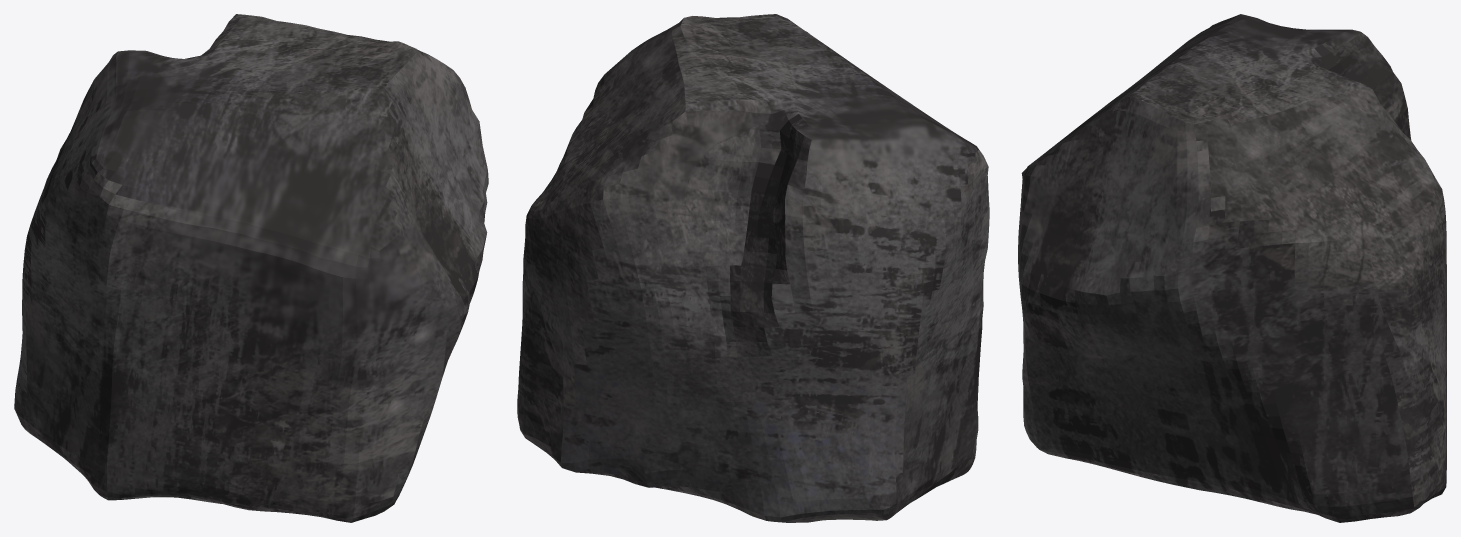
File: Alt_rock_01.fbx
3 renders of one model, left to right at view 1: azimuth 30°, elevation 25°; view 2: azimuth 150°, elevation 25°; view 3: azimuth 270°, elevation 25°, orthographic. The views are drawn at different scales.
Visible parts, largest first — view 1: Cube; view 2: Cube; view 3: Cube.
Boxes of the visible parts, bbox=[...] form: Cube: bbox=[14, 14, 488, 522]; Cube: bbox=[517, 14, 989, 522]; Cube: bbox=[1018, 14, 1446, 522].
Size of the model in its own units: 209 by 202 by 203.
